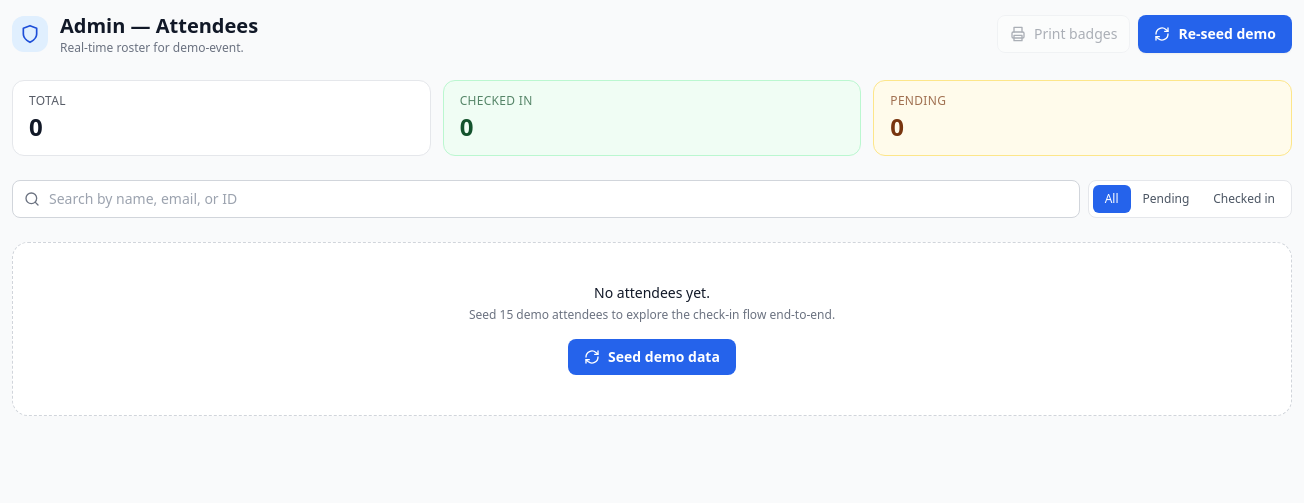
it: <AdminPage /> › seeding › shows an error banner if seedDemoData throws permission-denied
Click the button "Seed demo data" at (652, 357), box [568,339,736,375]
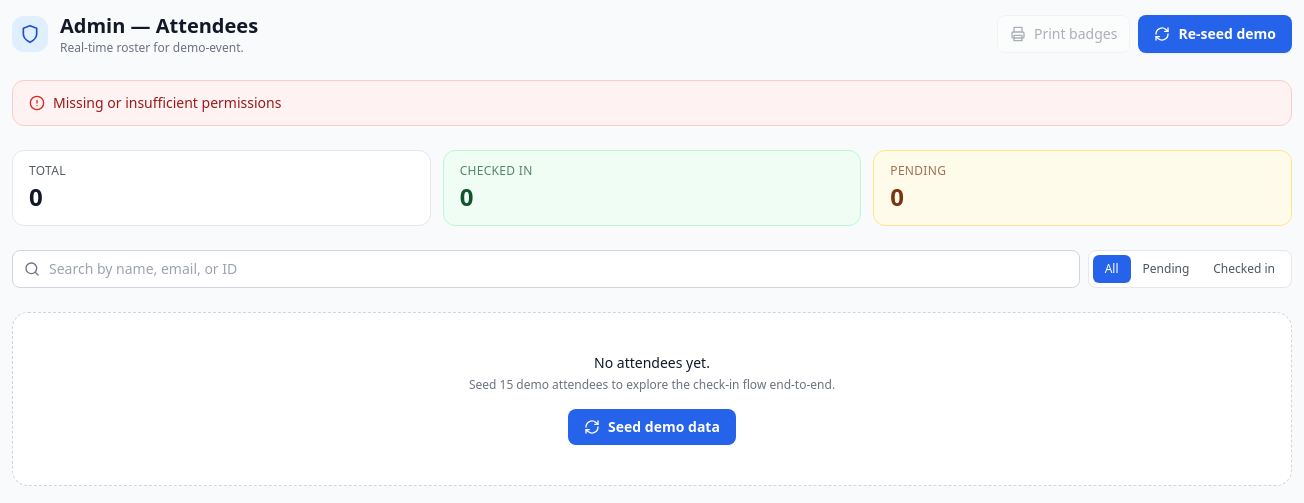
Expected: the text "Missing or insufficient permissions" is shown, [53,93,281,113]
